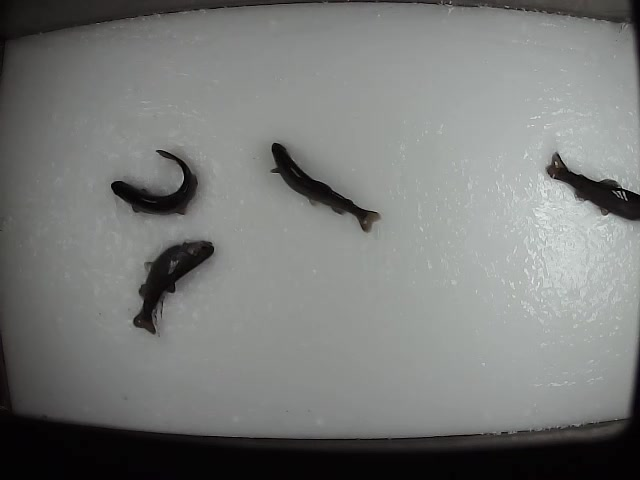fish: (270, 139, 384, 234), (130, 238, 217, 336), (109, 145, 200, 217)
